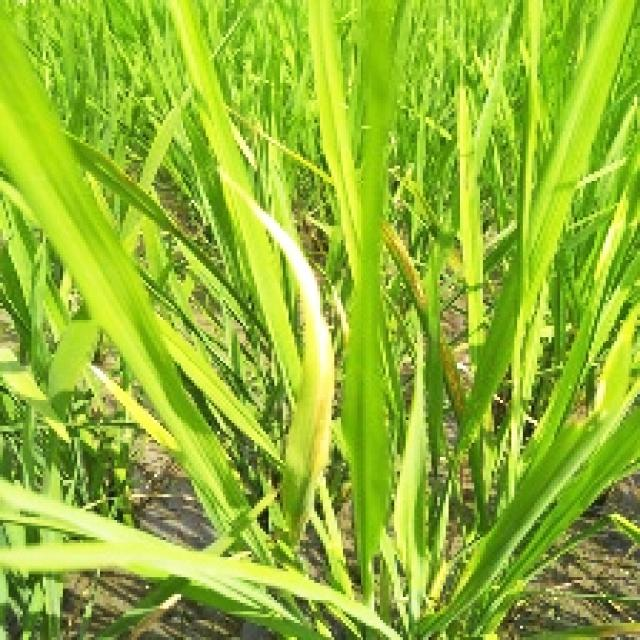unhealth: (219, 170, 335, 550)
